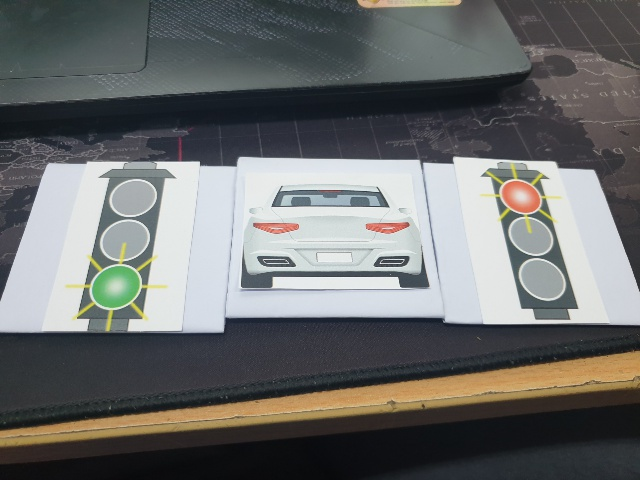Car: (239, 186, 432, 294)
Green Light: (72, 166, 173, 330)
Red Light: (479, 162, 588, 324)
